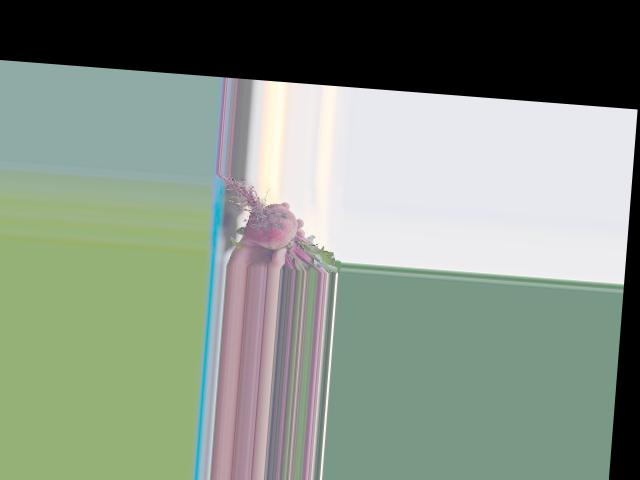beet: (210, 172, 347, 273)
